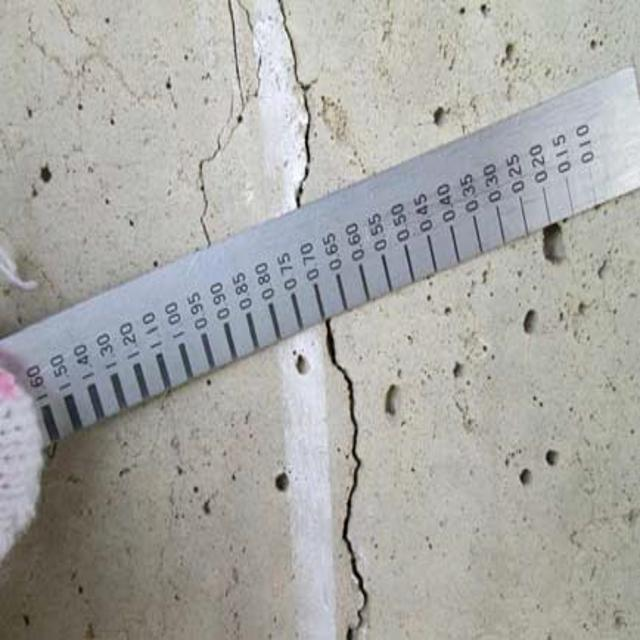crack: (190, 0, 325, 234), (316, 319, 388, 637)
